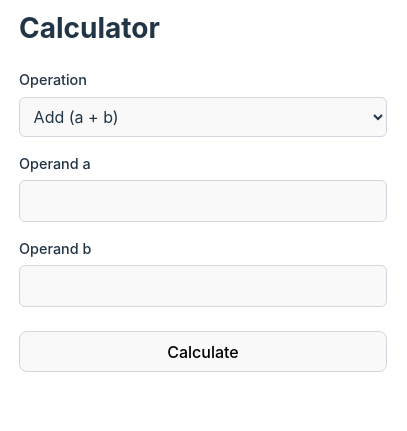
Calculator › submitting › renders a negative and a fractional result unchanged
Select "Divide (a ÷ b)" in the dropdown labelled "Operation" at (203,117), box left=19, top=97, right=387, bottom=137
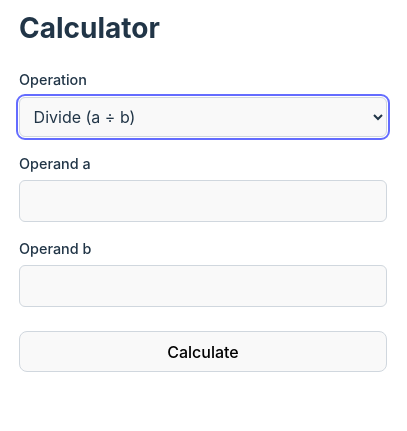
Type "-1" into the field labelled "Operand a" at (203,201), box left=19, top=180, right=387, bottom=222
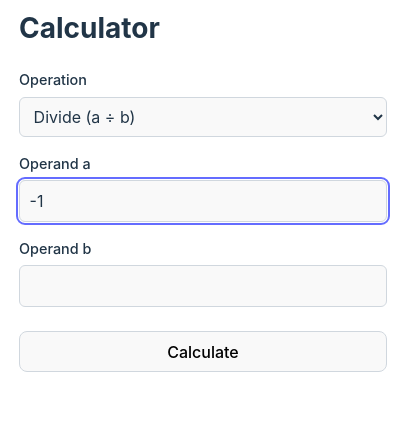
Type "2" into the field labelled "Operand b" at (203,286), box left=19, top=265, right=387, bottom=307
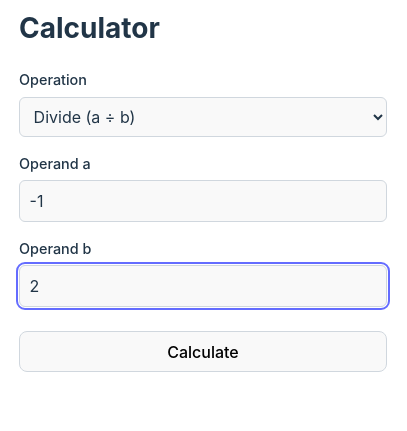
Click the button at (203,352), box left=19, top=331, right=387, bottom=372
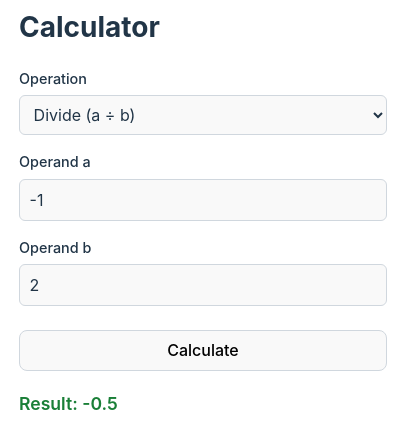
Result: the text "Result: -0.5" is shown at left=19, top=393, right=118, bottom=414
